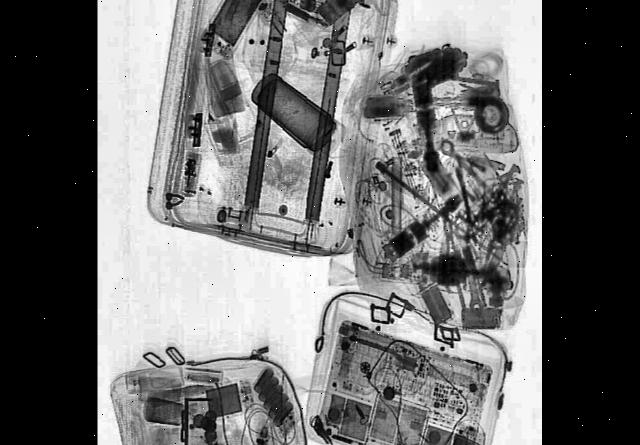Wrench: (452, 224, 485, 319)
